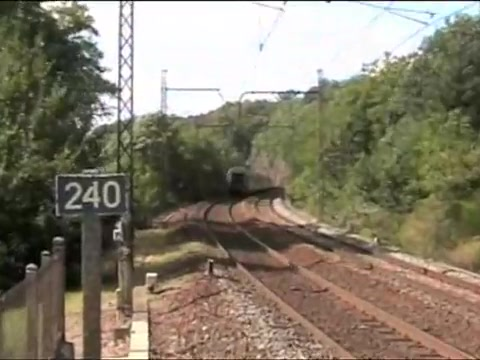train: (227, 164, 274, 200)
